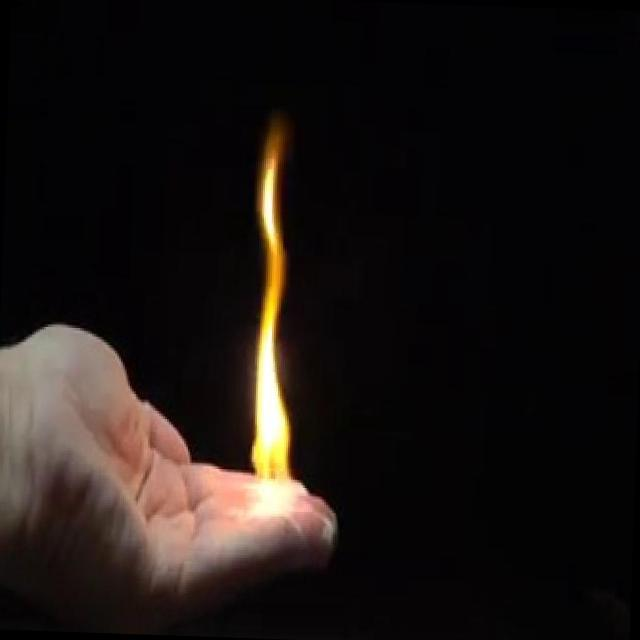Fire: (242, 161, 315, 522)
